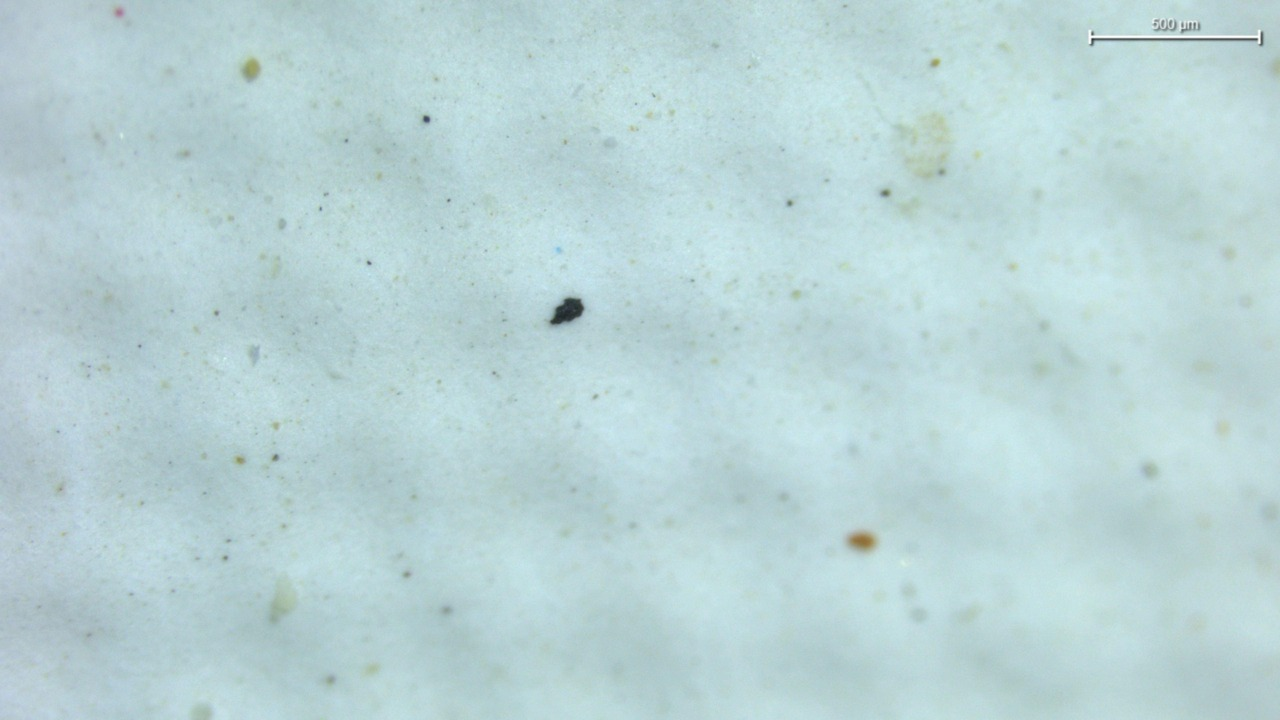microplastic_fragment: (549, 297, 584, 324)
